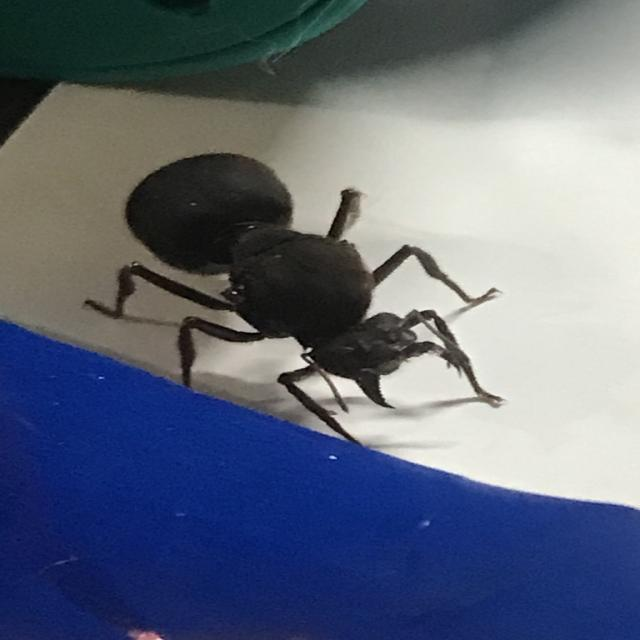Alive-Female-Dealate: (80, 153, 506, 450)
